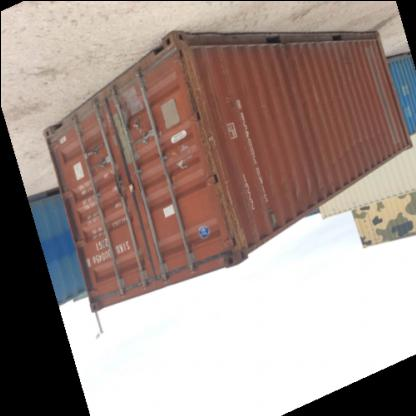Damage: (213, 177, 245, 255), (332, 127, 380, 164), (179, 48, 199, 126), (275, 44, 297, 106), (117, 128, 145, 168), (281, 177, 315, 207), (168, 141, 191, 177), (120, 84, 141, 120), (341, 55, 355, 87)
